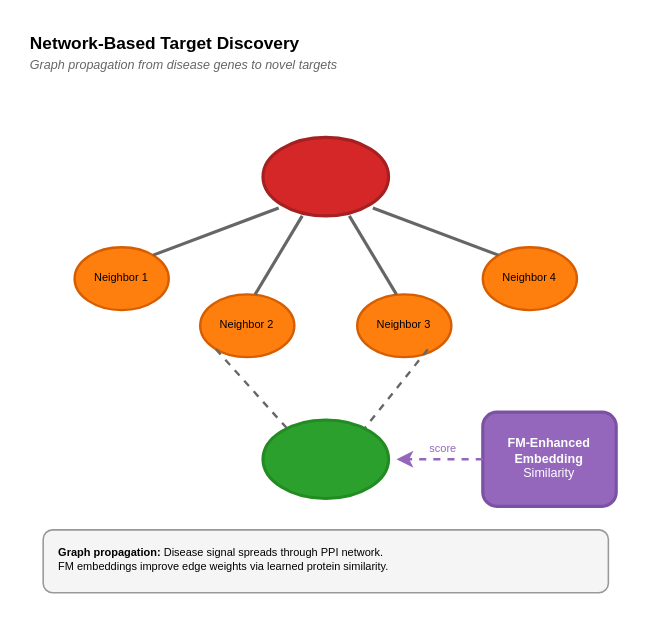
This 650x620 diagram has some shape labels left out. The centre of each missing label's shape, as x and y in pixels:
"Disease Genes" belongs at (325,176).
"Novel Target" belongs at (325,458).
